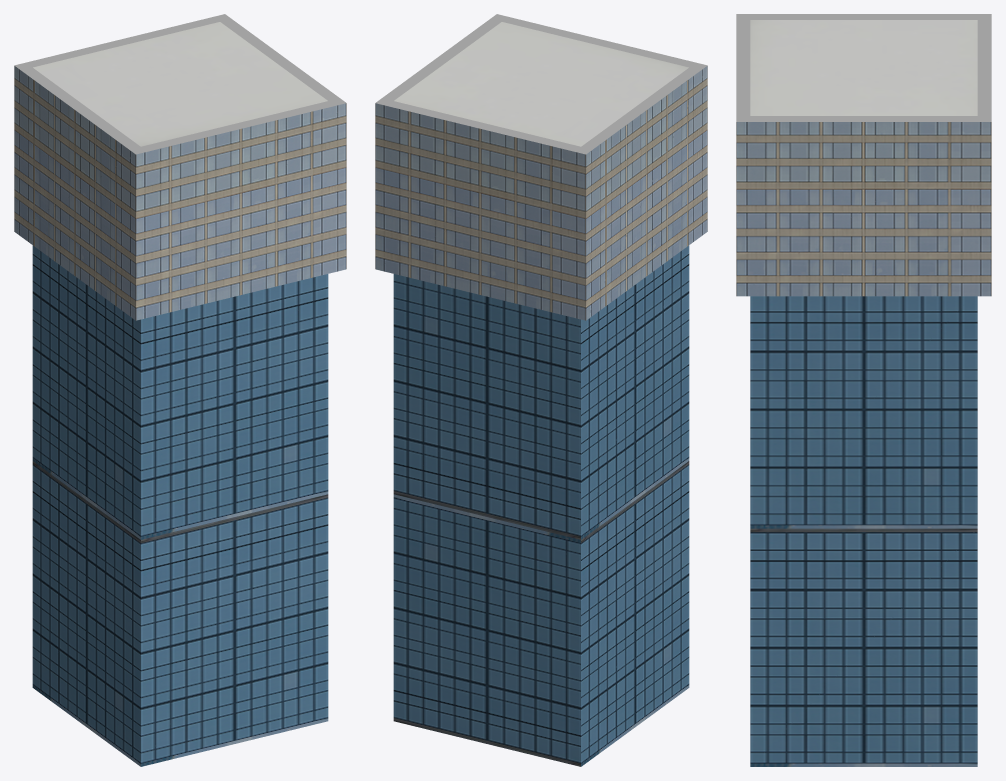
File: Background_Asset_005.fbx
3 views of the same model, side by side, from view 1: azimuth 30°, elevation 25°; view 2: azimuth 150°, elevation 25°; view 3: azimuth 270°, elevation 25° (orthographic). The views are drawn at different scales.
Visible parts, largest first — view 1: Background_Asset_005; view 2: Background_Asset_005; view 3: Background_Asset_005.
Boxes of the visible parts, x1=… form: Background_Asset_005: x1=14, y1=14, x2=346, y2=766; Background_Asset_005: x1=375, y1=14, x2=707, y2=766; Background_Asset_005: x1=736, y1=14, x2=991, y2=766.
Bounding box in the file's own units: 664 × 1866 × 664.
